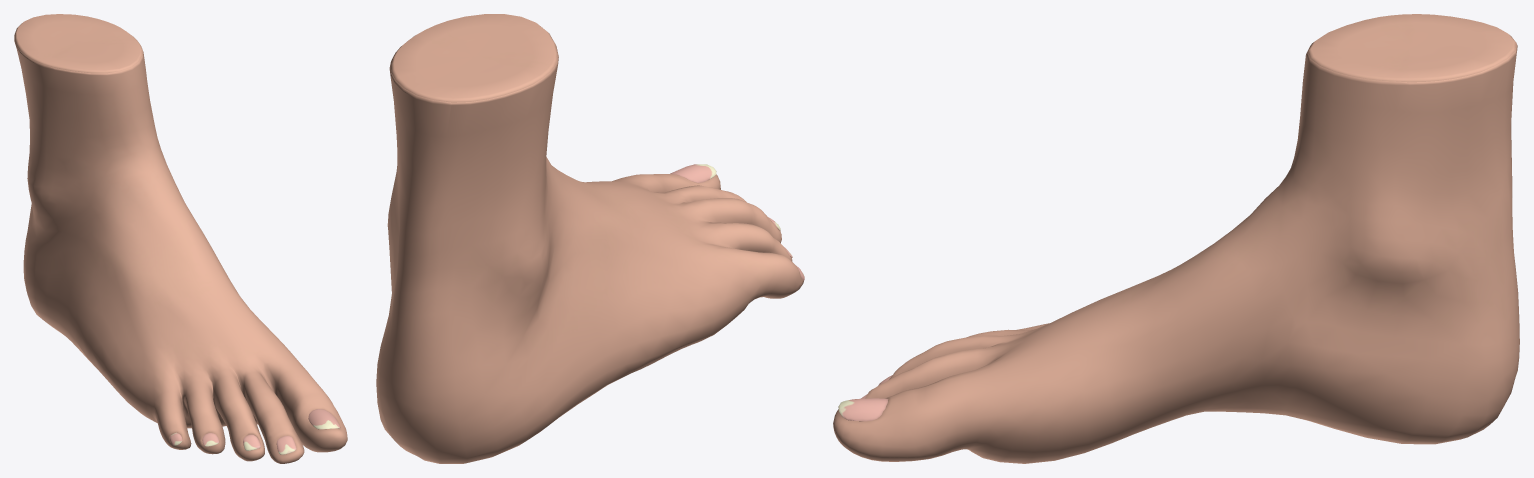
3 renders of one model, left to right at view 1: azimuth 30°, elevation 25°; view 2: azimuth 150°, elevation 25°; view 3: azimuth 270°, elevation 25°, orthographic. The views are drawn at different scales.
Parts seen in each view (by area): view 1: Pe3d_1, Unhas1; view 2: Pe3d_1, Unhas1; view 3: Pe3d_1, Unhas1.
Boxes of the visible parts, x1=… form: Pe3d_1: x1=14, y1=14, x2=347, y2=463; Unhas1: x1=170, y1=409, x2=340, y2=454; Pe3d_1: x1=376, y1=14, x2=803, y2=463; Unhas1: x1=670, y1=164, x2=804, y2=280; Pe3d_1: x1=833, y1=14, x2=1519, y2=463; Unhas1: x1=838, y1=375, x2=892, y2=421.
Size of the model in its own units: 0.5383 by 0.9688 by 1.57.
Materials: 2 (2 with a texture image).
